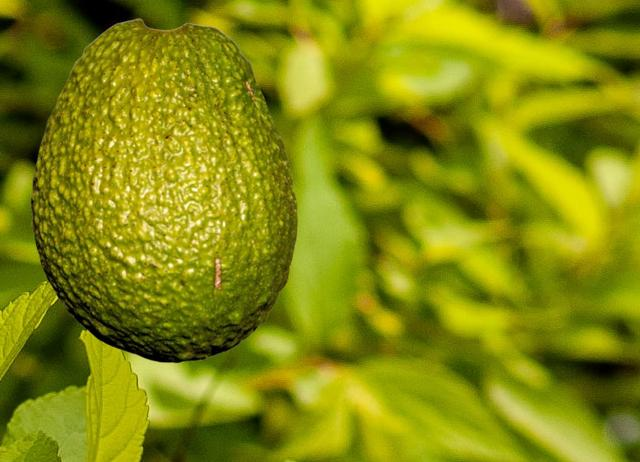avocado: (30, 18, 296, 362)
